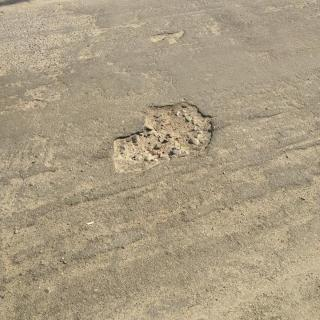pothole: (112, 100, 214, 175)
